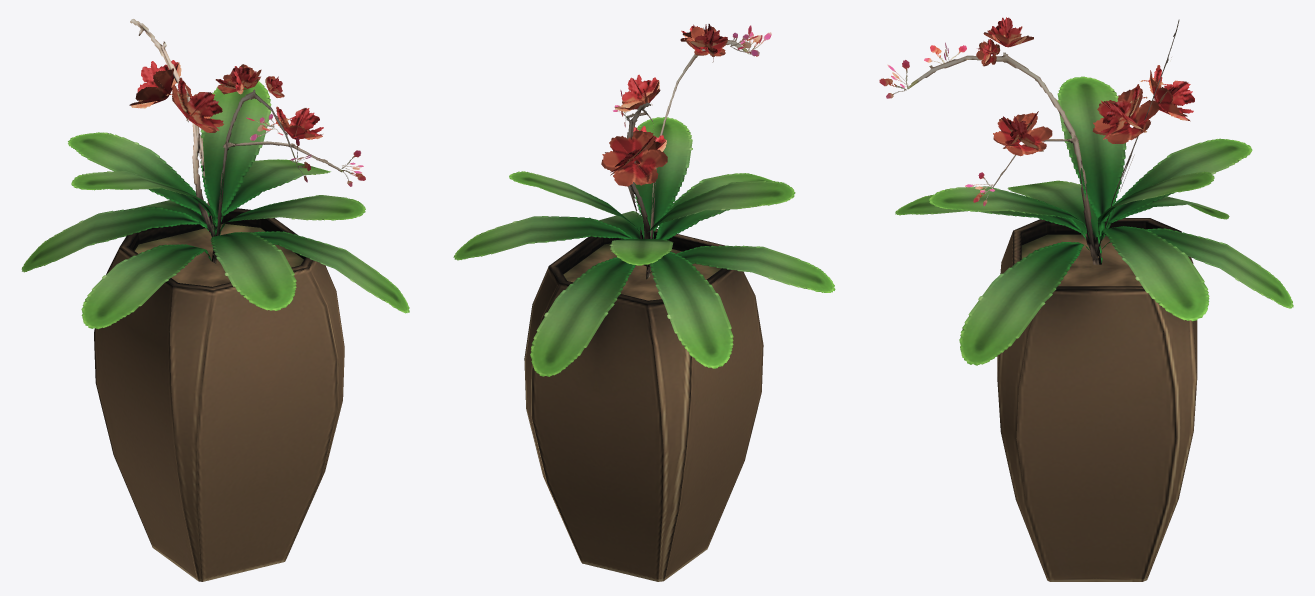
File: Vase02.FBX
3 renders of one model, left to right at view 1: azimuth 30°, elevation 25°; view 2: azimuth 150°, elevation 25°; view 3: azimuth 270°, elevation 25°, orthographic. The views are drawn at different scales.
Visible parts, largest first — view 1: Vase02; view 2: Vase02; view 3: Vase02.
Boxes of the visible parts, x1,y1,x2,y2 form: Vase02: (21, 19, 409, 581); Vase02: (453, 24, 835, 581); Vase02: (879, 17, 1293, 581).
Size of the model in its own units: 39.88 by 44.66 by 61.68.
